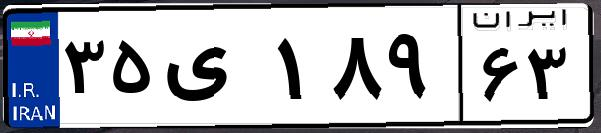1: (270, 28, 330, 110)
3: (57, 26, 110, 100), (525, 38, 570, 115)
5: (110, 28, 158, 98)
6: (475, 38, 525, 113)
8: (330, 28, 385, 110)
9: (385, 28, 445, 110)
ی: (158, 20, 270, 120)
